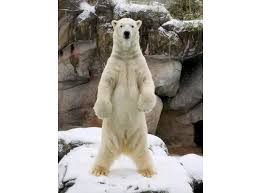PolarBear: (89, 14, 160, 181)
